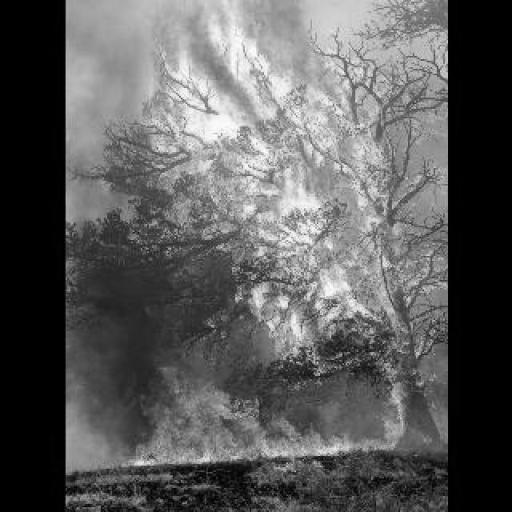smoke: (122, 2, 420, 456)
